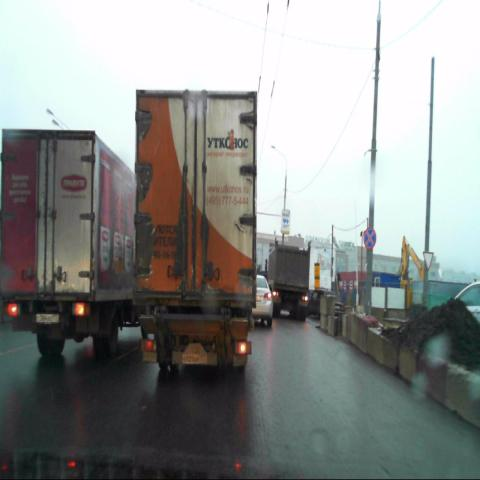3_27: (364, 227, 376, 250)
